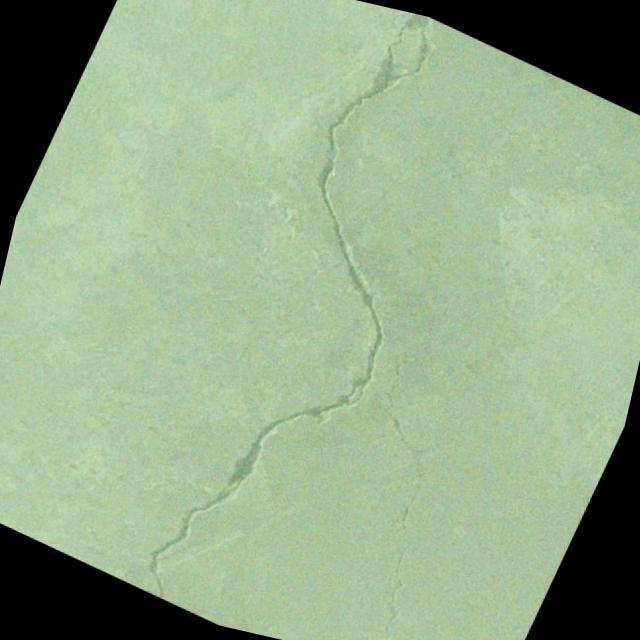crack: (110, 0, 524, 640), (253, 323, 514, 640)
